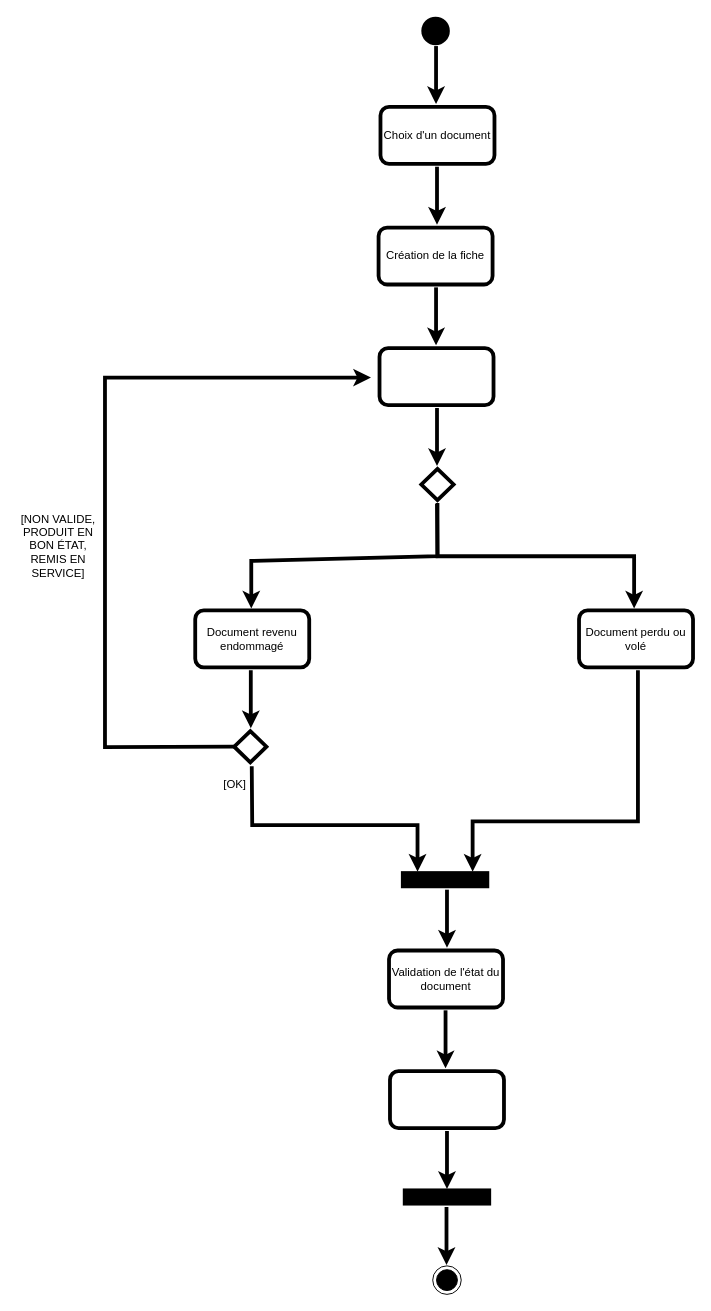
Some shapes in this 711 by 1311 pixel diagram are drawn without their labels. The centre of each missing label's shape, as x and y in pixels:
"Document mis hors service" goes at [446,1099].
"Prêt du document" goes at [436,376].
